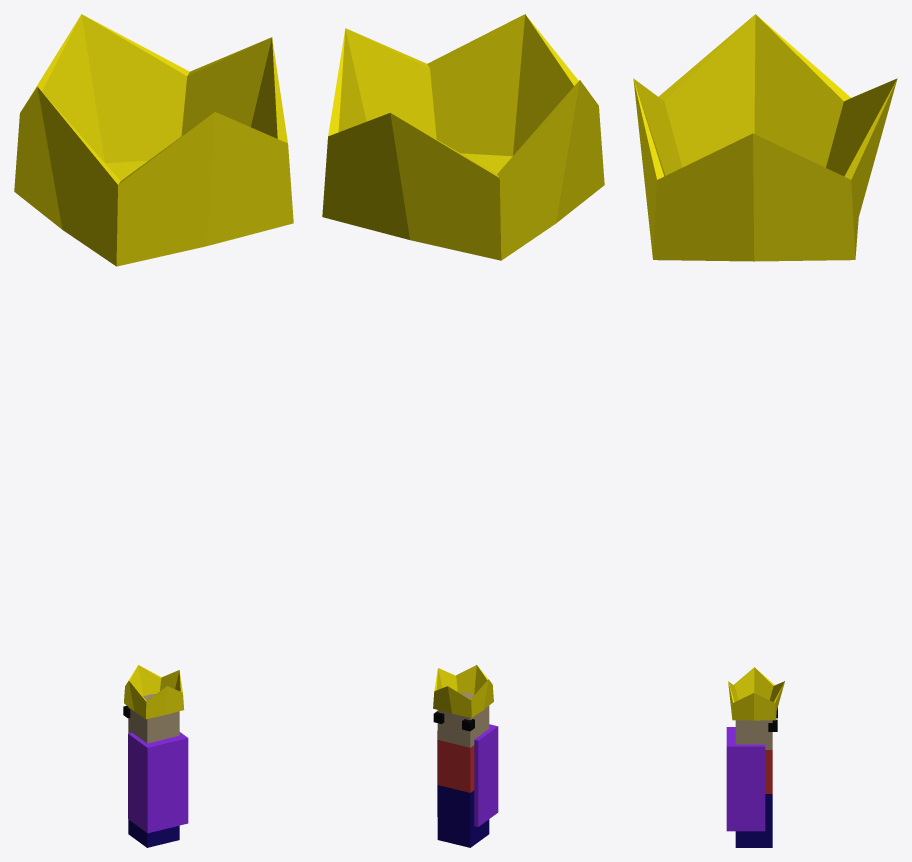
Rendered from Medieval.fbx_King.fbx.
3 views of the same model, side by side, from view 1: azimuth 30°, elevation 25°; view 2: azimuth 150°, elevation 25°; view 3: azimuth 270°, elevation 25° (orthographic). The views are drawn at different scales.
Parts seen in each view (by area): view 1: Crown, King; view 2: Crown, King; view 3: Crown, King.
Part boxes in pixels (bbox=[...]): Crown: bbox=[14, 14, 293, 266]; King: bbox=[123, 665, 188, 847]; Crown: bbox=[322, 14, 604, 260]; King: bbox=[433, 665, 498, 847]; Crown: bbox=[633, 14, 897, 261]; King: bbox=[726, 667, 784, 847].
Bounding box in the file's own units: 341 × 338 × 1086.
